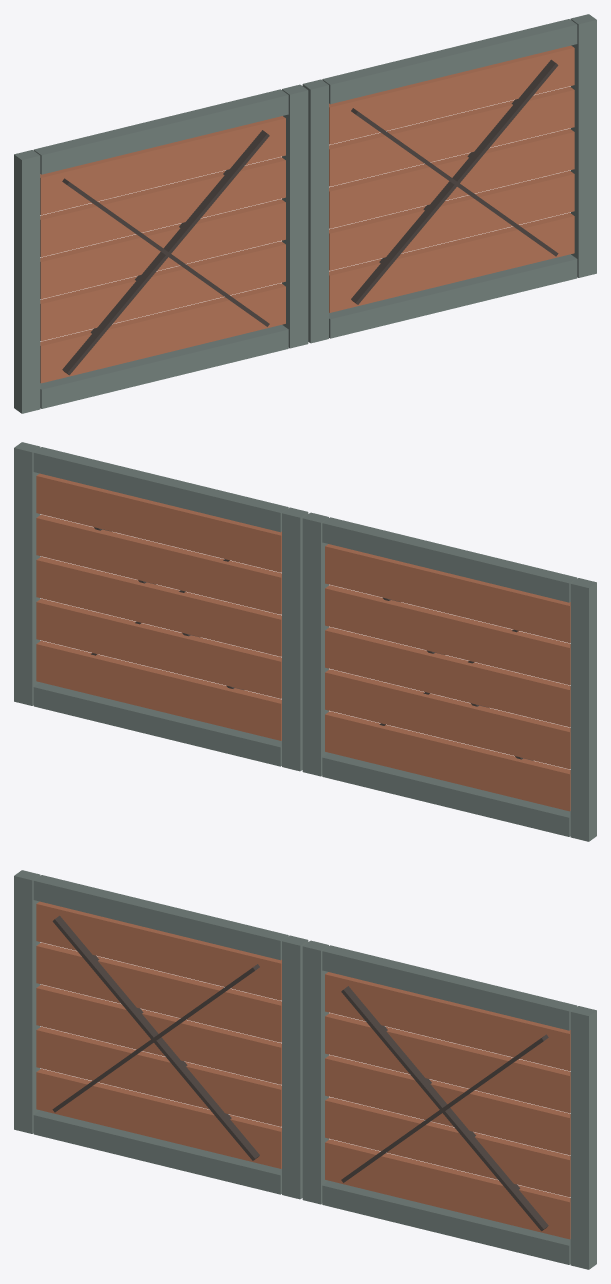
The model's file is SM_PuertaVia_v2_Tablones_e0_Sano_LOD1.fbx.
The picture shows the model from 3 angles, top to bottom: view 1: azimuth 30°, elevation 25°; view 2: azimuth 150°, elevation 25°; view 3: azimuth 330°, elevation 25°; orthographic projection.
Parts seen in each view (by area): view 1: Hoja_O, Hoja_E; view 2: Hoja_O, Hoja_E; view 3: Hoja_E, Hoja_O.
Boxes of the visible parts, bbox=[...] form: Hoja_O: bbox=[14, 84, 308, 413]; Hoja_E: bbox=[302, 14, 596, 343]; Hoja_O: bbox=[302, 512, 596, 841]; Hoja_E: bbox=[14, 442, 308, 771]; Hoja_E: bbox=[302, 940, 596, 1269]; Hoja_O: bbox=[14, 870, 308, 1199].
Size of what is drawn, in the model's own units: 4.98 by 2.1 by 0.17.
